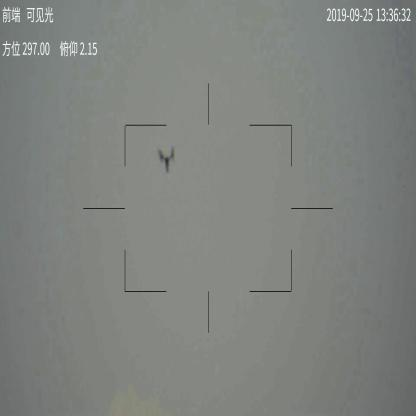uav: (158, 146, 176, 178)
